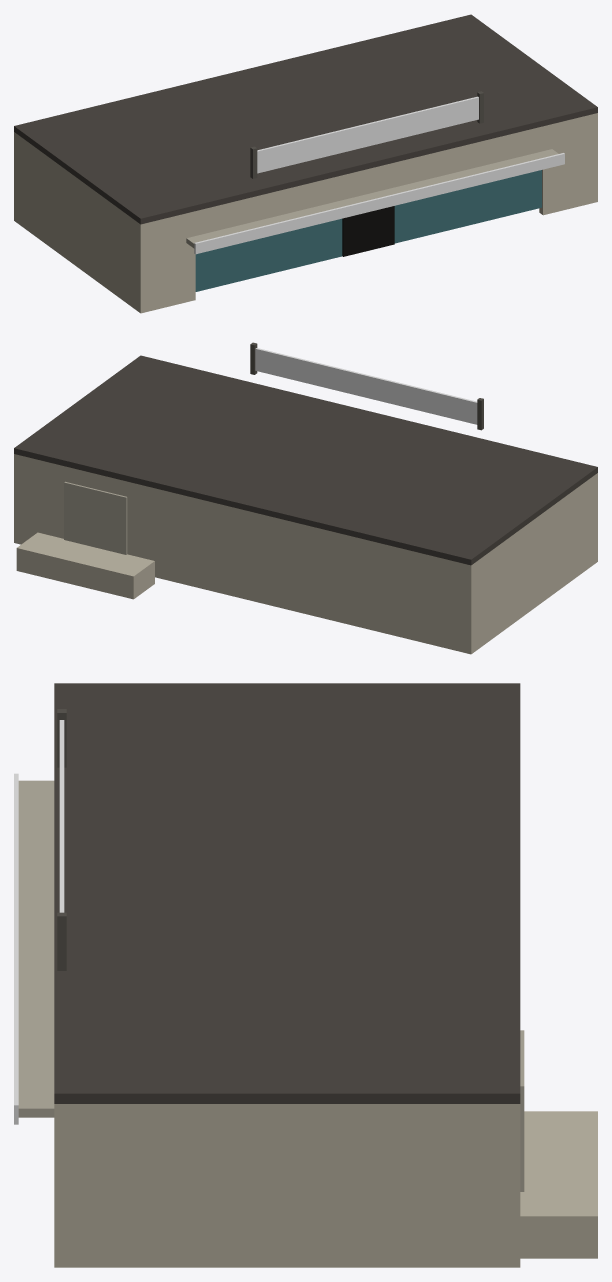
The picture shows the model from 3 angles, top to bottom: view 1: azimuth 30°, elevation 25°; view 2: azimuth 150°, elevation 25°; view 3: azimuth 270°, elevation 25°; orthographic projection. The views are drawn at different scales.
Parts seen in each view (by area): view 1: site_supermarket_restored; view 2: site_supermarket_restored; view 3: site_supermarket_restored.
Boxes of the visible parts, <box> form: site_supermarket_restored: <box>14,14,597,313</box>; site_supermarket_restored: <box>14,342,597,654</box>; site_supermarket_restored: <box>14,683,597,1267</box>.
Bounding box in the file's own units: 25 × 7.45 × 15.04.
